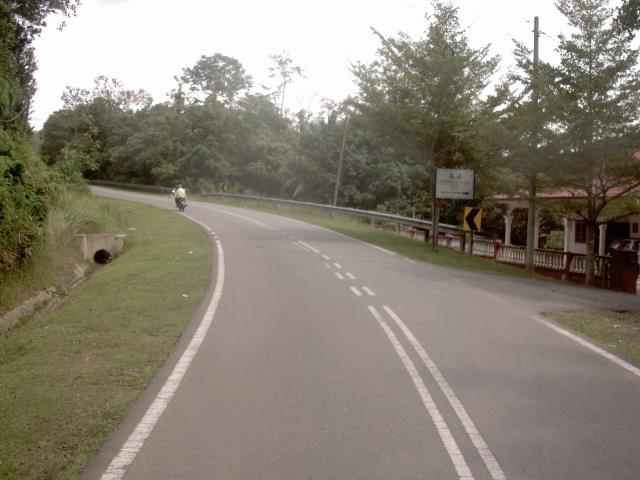traffic_sign: (458, 200, 486, 238)
